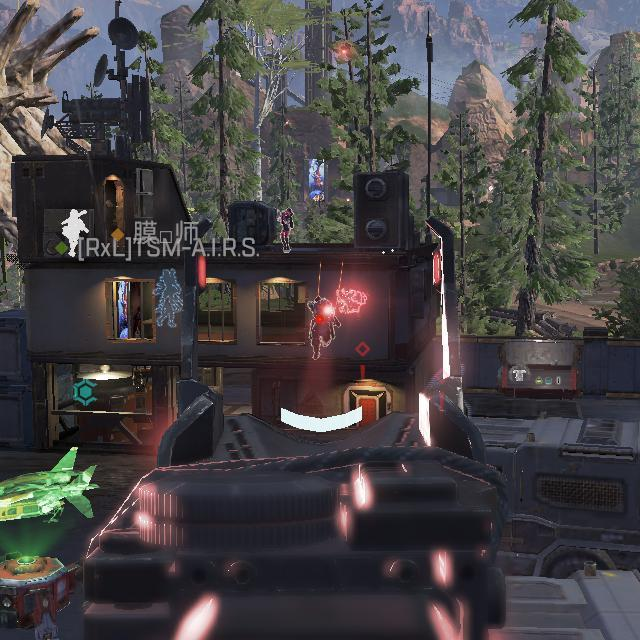avatar: (306, 295, 337, 361), (276, 207, 295, 251)
